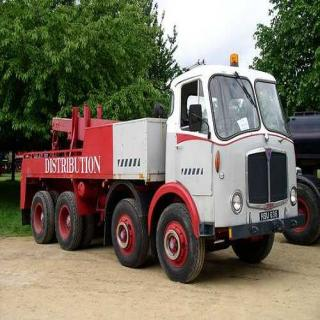Towing_truck: (18, 52, 301, 283)
